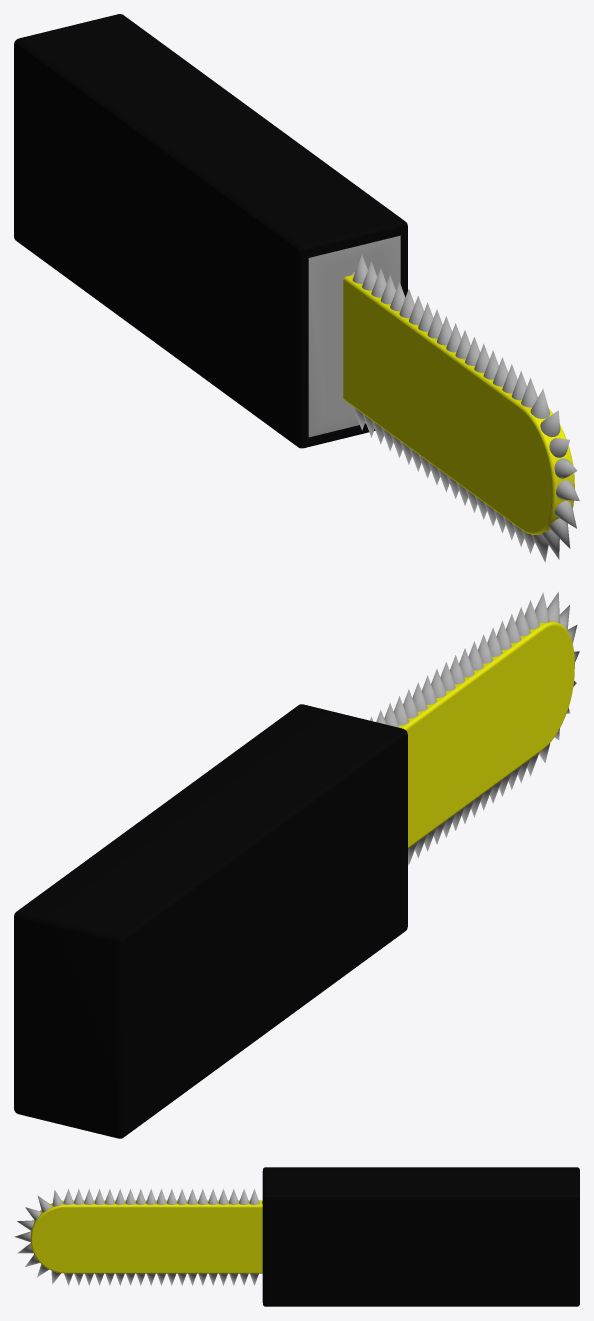
File: cutter.fbx
3 views of the same model, one above another, from view 1: azimuth 30°, elevation 25°; view 2: azimuth 150°, elevation 25°; view 3: azimuth 270°, elevation 25° (orthographic). The views are drawn at different scales.
Parts seen in each view (by area): view 1: pCube1, pCube2; view 2: pCube1, pCube2; view 3: pCube1, pCube2.
Boxes of the visible parts, x1,y1,x2,y2 form: pCube1: (14,14,407,448); pCube2: (343,275,574,534); pCube1: (14,704,407,1138); pCube2: (399,621,574,848); pCube1: (262,1167,579,1306); pCube2: (30,1200,262,1273).
Size of the model in its own units: 2.38 by 4.18 by 19.16.
